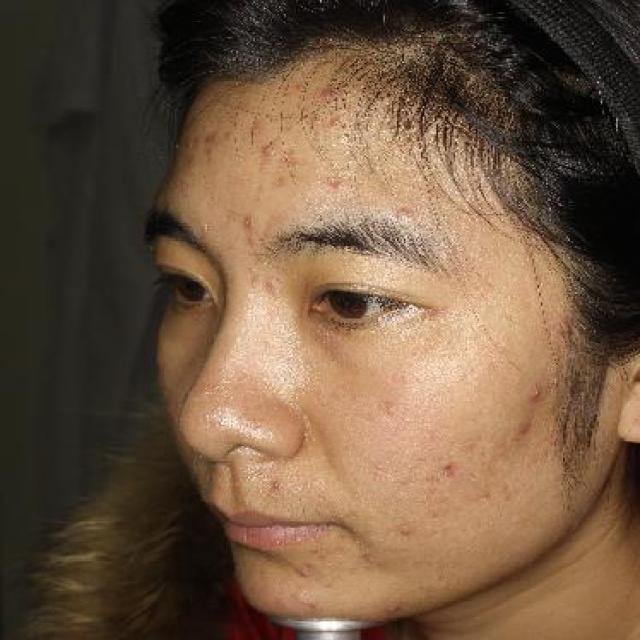nodules: (523, 382, 547, 411), (286, 560, 318, 580), (390, 203, 419, 225), (237, 212, 262, 234), (327, 174, 352, 195), (262, 274, 284, 294), (551, 317, 572, 337), (255, 142, 276, 160), (393, 525, 414, 539)
